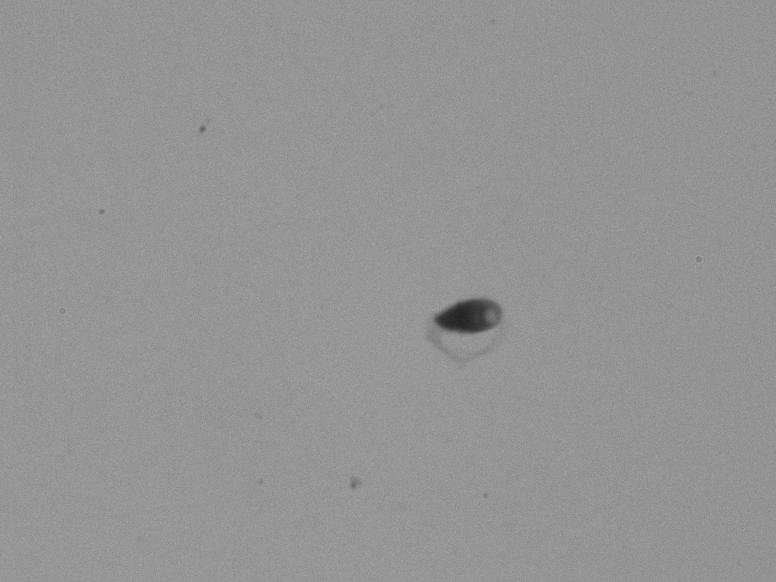Abnormal: (382, 234, 552, 404)
